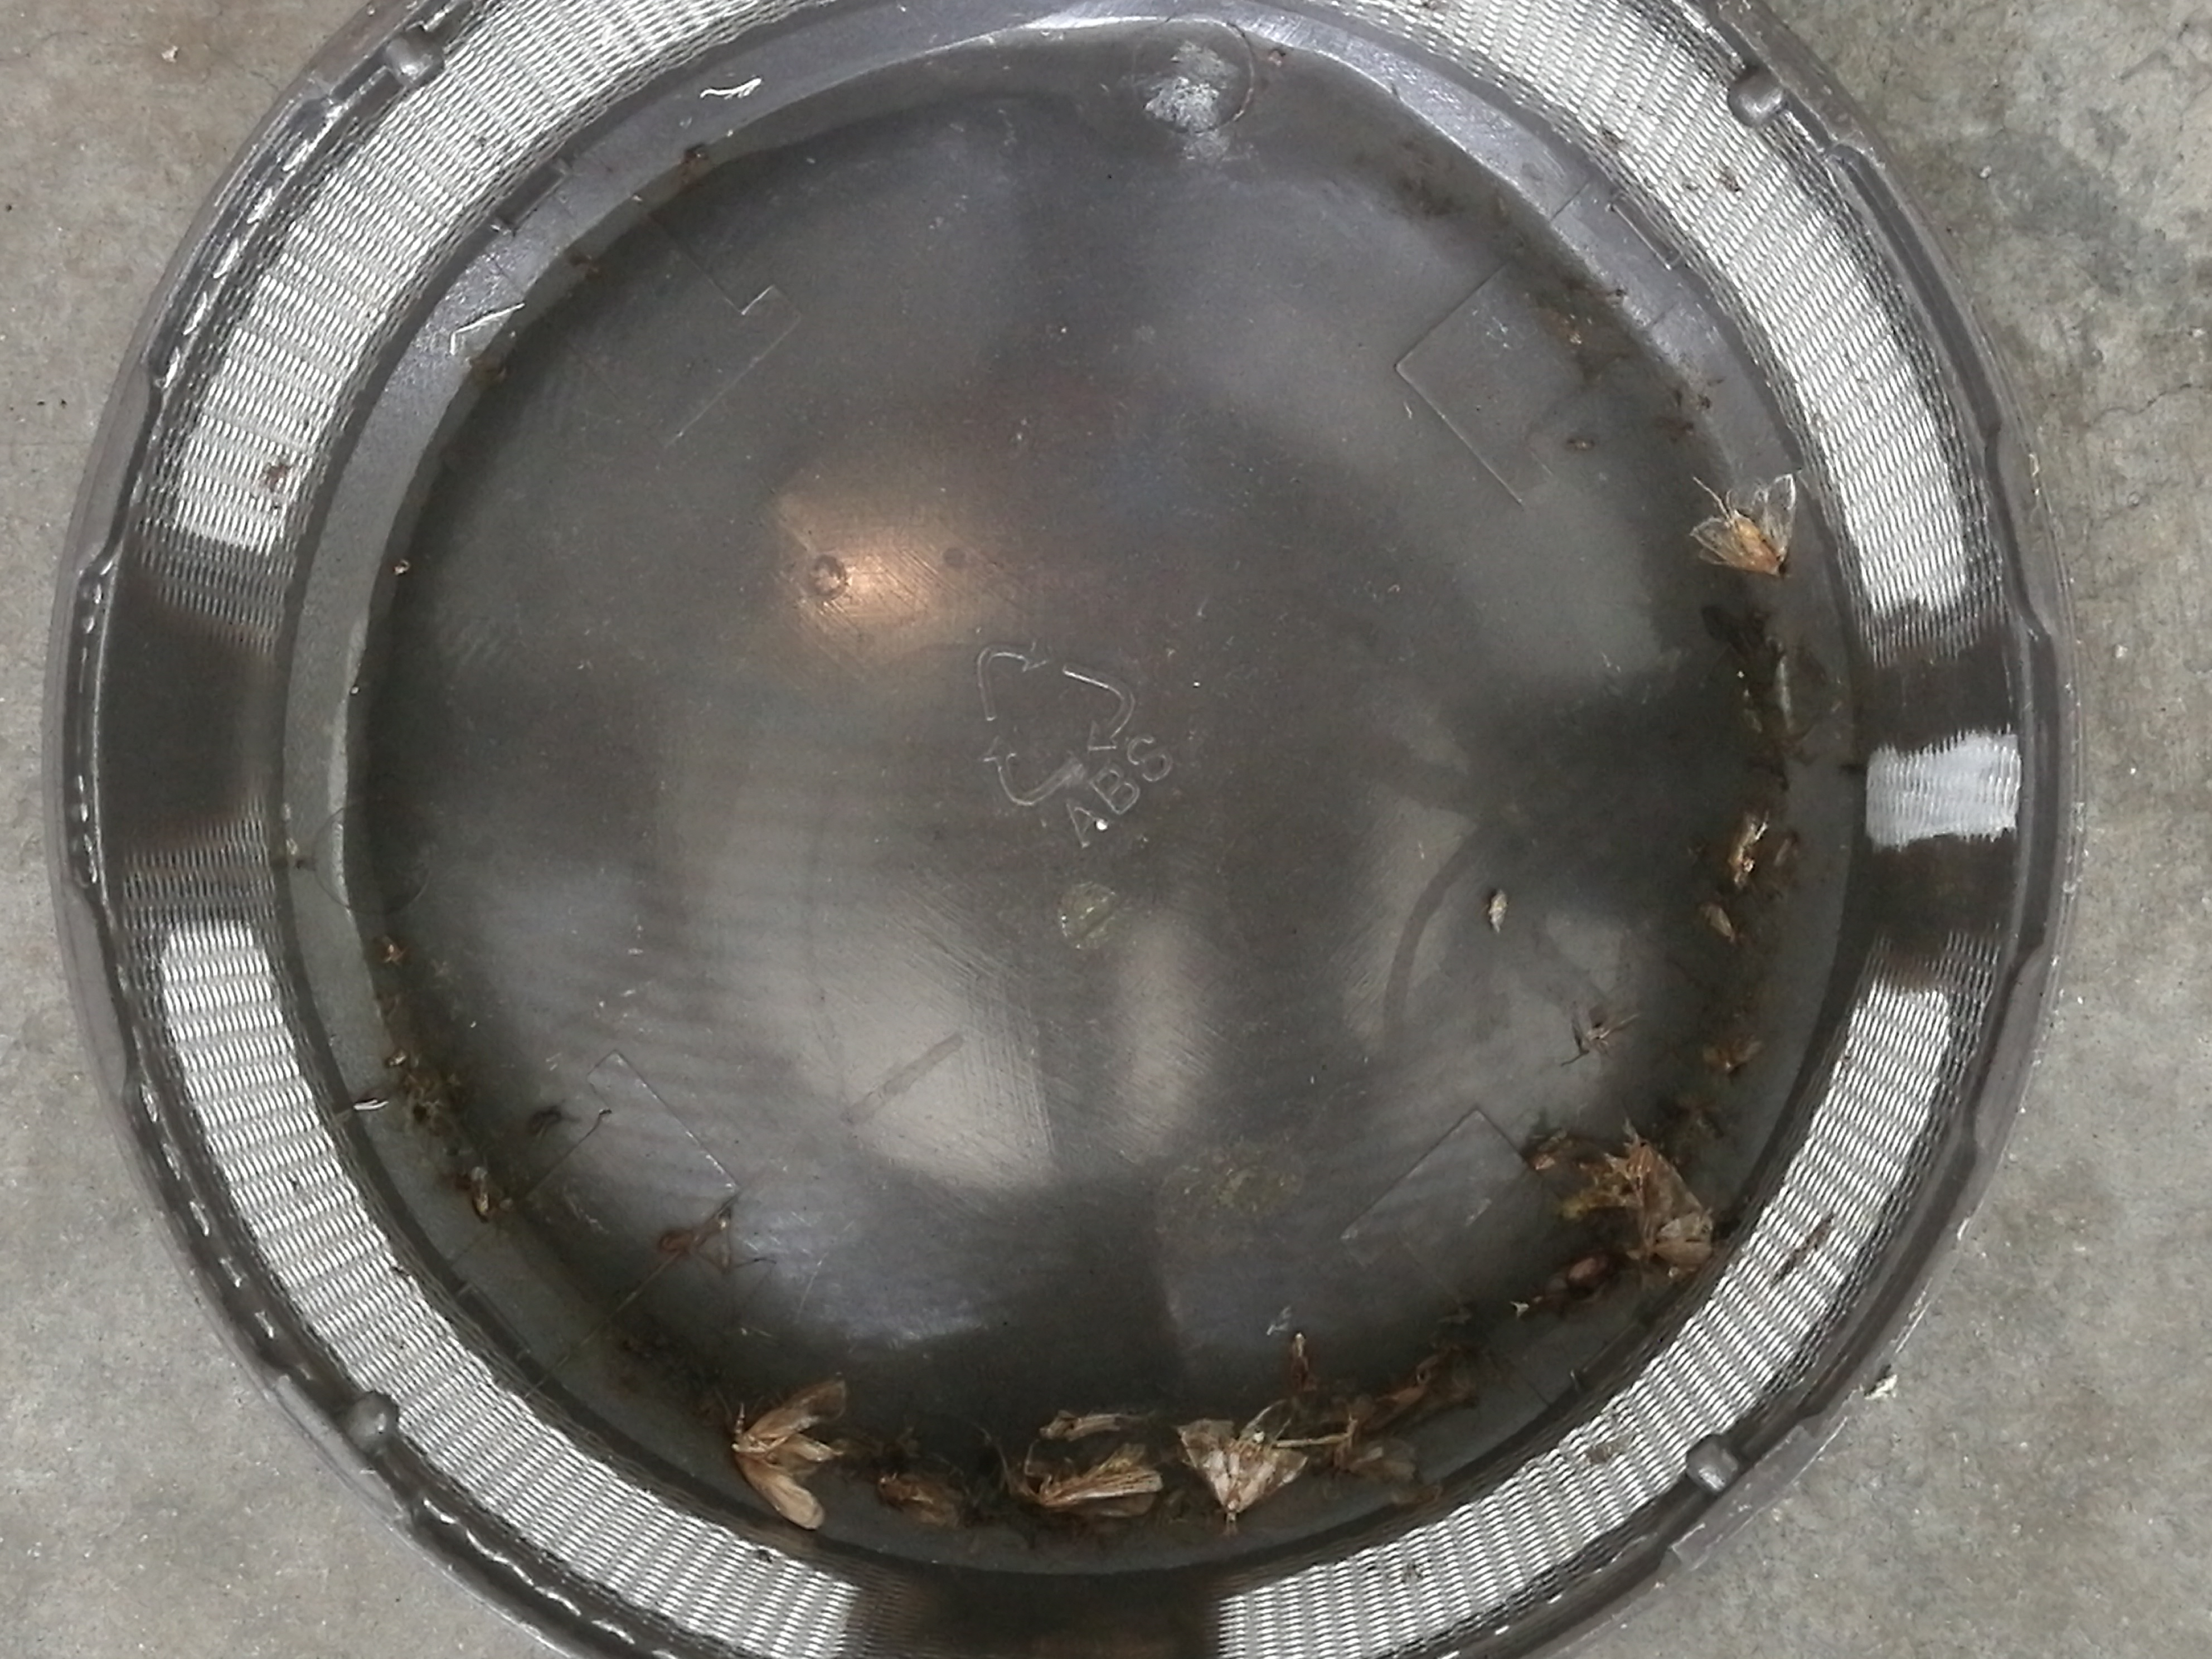mosquito: (1038, 1466, 1162, 1514)
moth: (735, 1375, 846, 1530), (1176, 1419, 1308, 1514), (1693, 476, 1797, 575), (1630, 1136, 1710, 1263)
